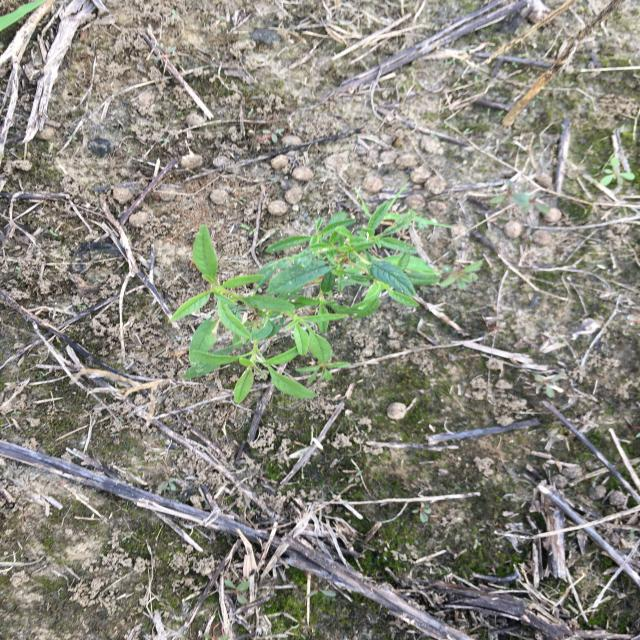Waterhemp: (167, 199, 442, 406)
